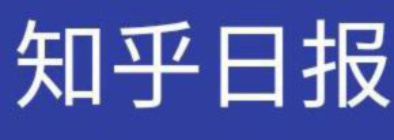TextView: (1, 1, 393, 139)
